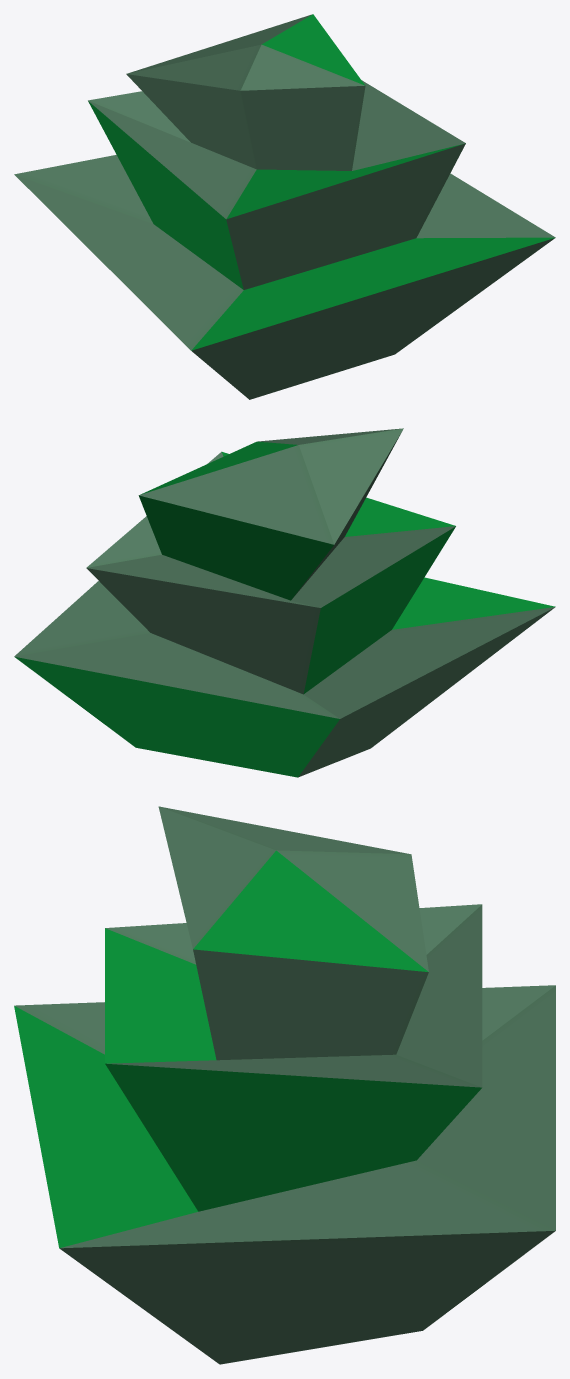
File: plant_1.fbx
The picture shows the model from 3 angles, top to bottom: view 1: azimuth 30°, elevation 25°; view 2: azimuth 150°, elevation 25°; view 3: azimuth 270°, elevation 25°; orthographic projection. The views are drawn at different scales.
Parts seen in each view (by area): view 1: plant_1; view 2: plant_1; view 3: plant_1.
Part boxes in pixels (left/top/right/bottom): plant_1: left=14, top=14, right=555, bottom=399; plant_1: left=14, top=428, right=555, bottom=777; plant_1: left=14, top=806, right=555, bottom=1364.
Size of the model in its own units: 46.06 by 37.31 by 41.6.
